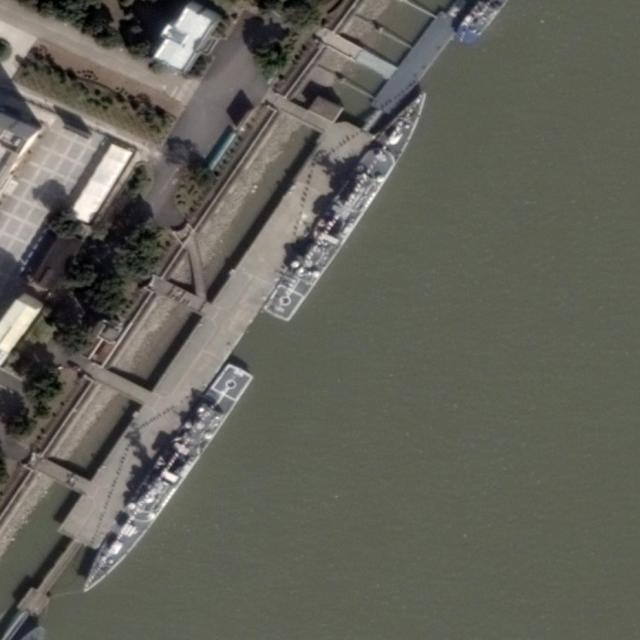Frigate: (74, 356, 257, 604), (262, 82, 437, 324)
